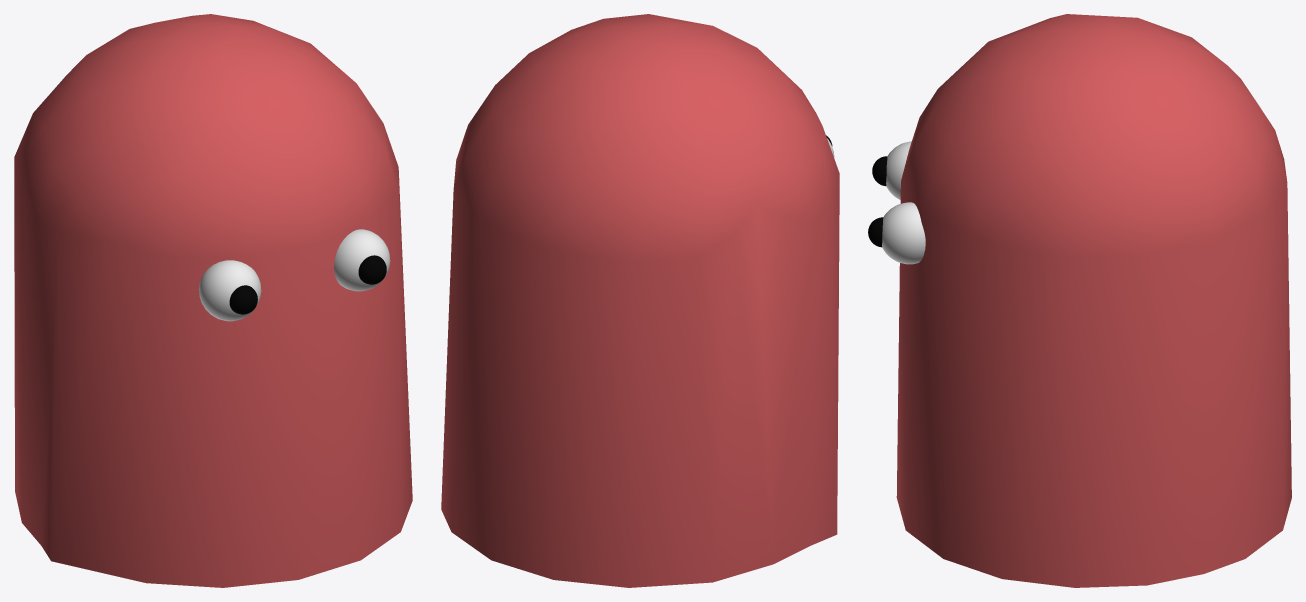
The model's file is Ghost.gltf.
3 renders of one model, left to right at view 1: azimuth 30°, elevation 25°; view 2: azimuth 150°, elevation 25°; view 3: azimuth 270°, elevation 25°, orthographic.
Visible parts, largest first — view 1: GHOST; view 2: GHOST; view 3: GHOST.
Boxes of the visible parts, x1,y1,x2,y2 form: GHOST: [14, 14, 412, 587]; GHOST: [441, 14, 839, 587]; GHOST: [868, 14, 1291, 587].
Size of the model in its own units: 2.05 by 2.63 by 2.15.
